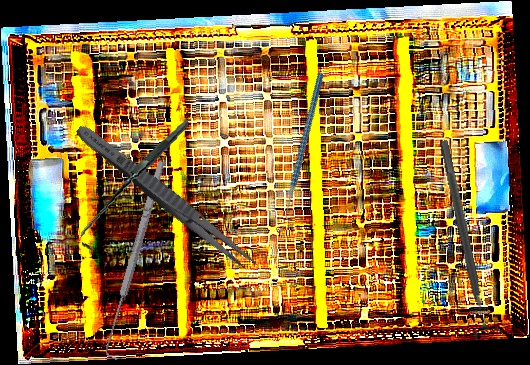Chopper: (239, 71, 372, 230)
Dressing Forceps: (71, 119, 262, 277)
Fixation Ring: (428, 137, 505, 340)
Hook Surgical: (68, 119, 202, 251), (98, 157, 175, 363)
